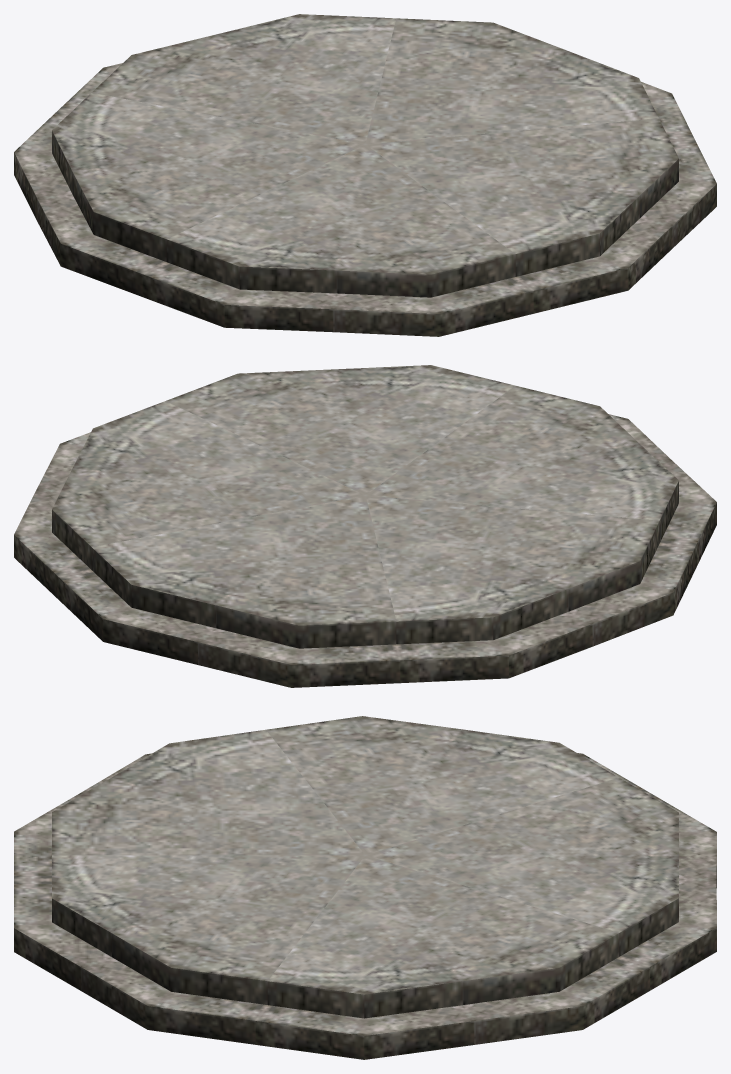
File: warpgate02_01.glb
3 renders of one model, top to bottom at view 1: azimuth 30°, elevation 25°; view 2: azimuth 150°, elevation 25°; view 3: azimuth 270°, elevation 25°, orthographic. The views are drawn at different scales.
Parts seen in each view (by area): view 1: gate02; view 2: gate02; view 3: gate02.
Part boxes in pixels (x1,y1,x2,y2): gate02: (14,14,716,336); gate02: (14,365,716,687); gate02: (14,716,716,1059).
Bounding box in the file's own units: 12.17 × 0.8804 × 11.58.
Materials: 1 (1 with a texture image).
